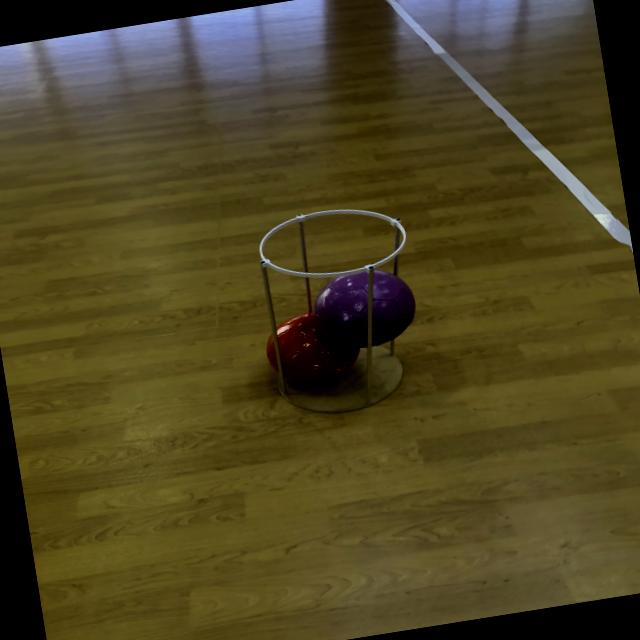purple_ball: (314, 262, 421, 352)
red_ball: (264, 306, 368, 392)
